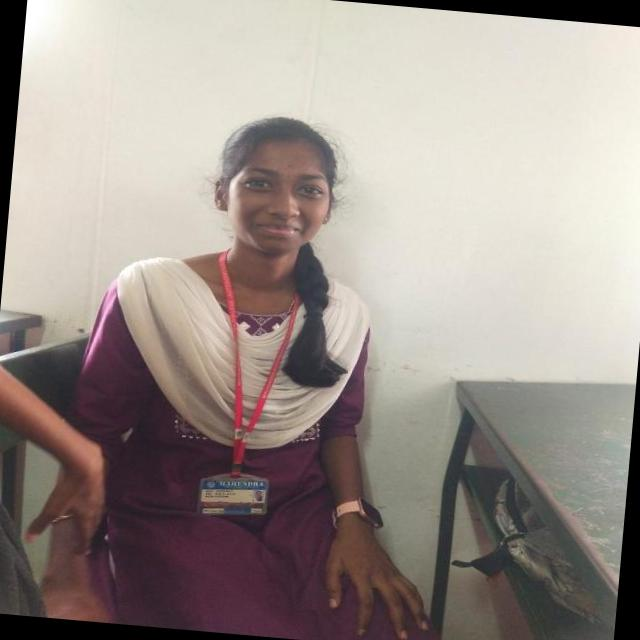id_card: (193, 252, 299, 524)
